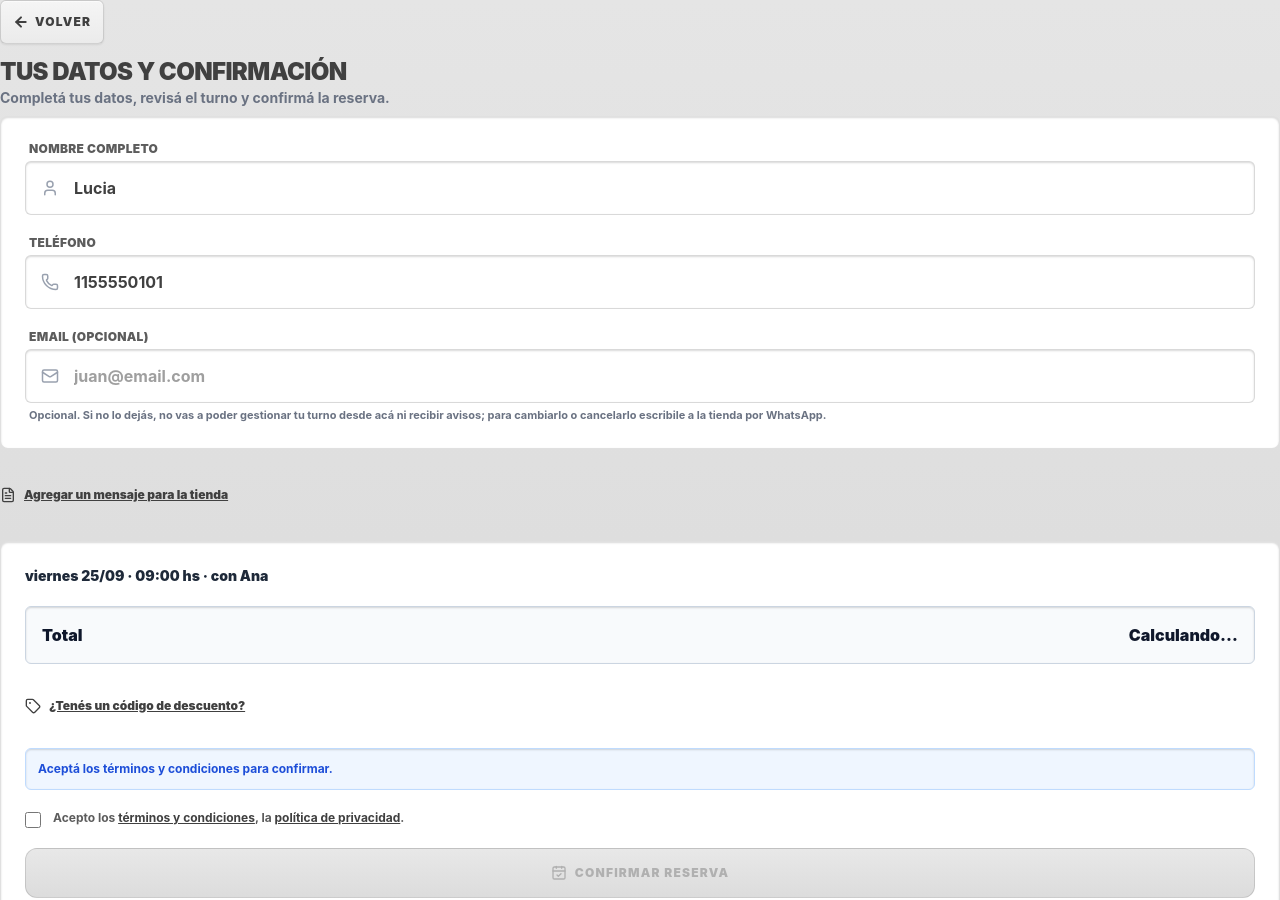
BookingStepConfirmation › formulario › sin OTP el email es opcional, dice que se pierde y se puede reservar sin el
Click the checkbox.
click(33, 820)  # box [25,812,41,828]
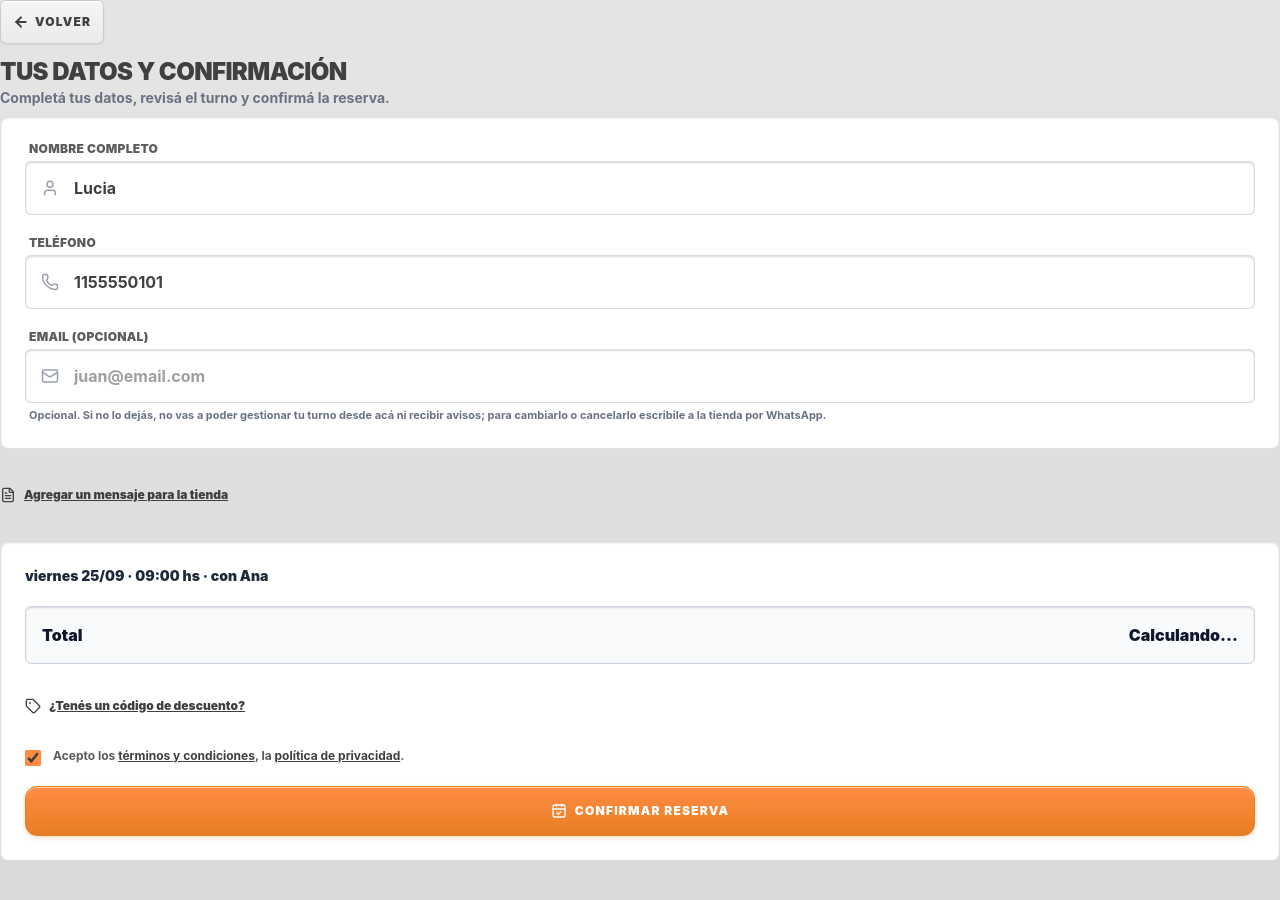
Expected: the text "Email (opcional)" is shown, [29,329,149,344]
Result: the button "Confirmar reserva" is enabled at [25,786,1255,836]
